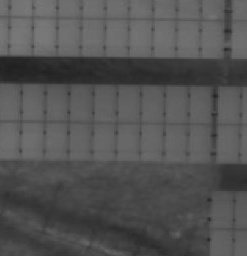solar: (18, 81, 48, 122), (42, 81, 72, 122), (65, 81, 95, 122), (90, 83, 120, 124), (113, 83, 143, 124), (138, 84, 168, 125), (161, 84, 191, 125), (184, 84, 214, 125), (214, 84, 244, 125), (6, 14, 36, 55), (30, 14, 60, 55), (53, 15, 83, 56), (79, 15, 109, 56), (101, 15, 131, 56), (125, 16, 155, 57), (150, 16, 180, 57), (172, 17, 202, 58), (197, 17, 227, 58), (17, 120, 47, 161), (41, 120, 71, 161), (66, 120, 96, 161), (89, 121, 119, 162), (113, 122, 143, 163), (135, 121, 165, 162), (160, 121, 190, 162), (184, 121, 214, 162), (213, 121, 243, 162), (207, 189, 237, 230)
